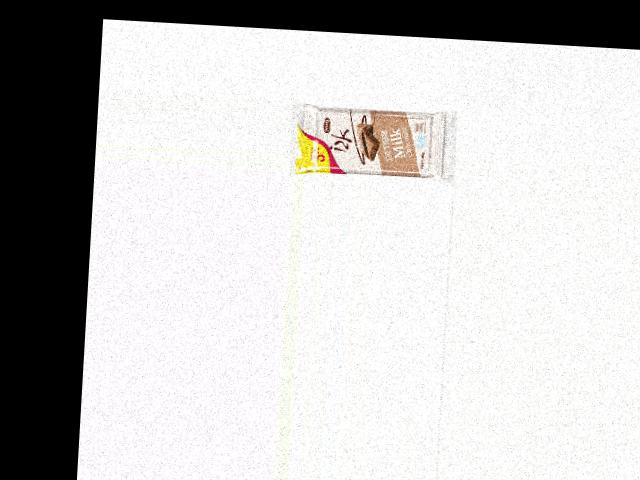chocolate: (288, 100, 442, 182)
